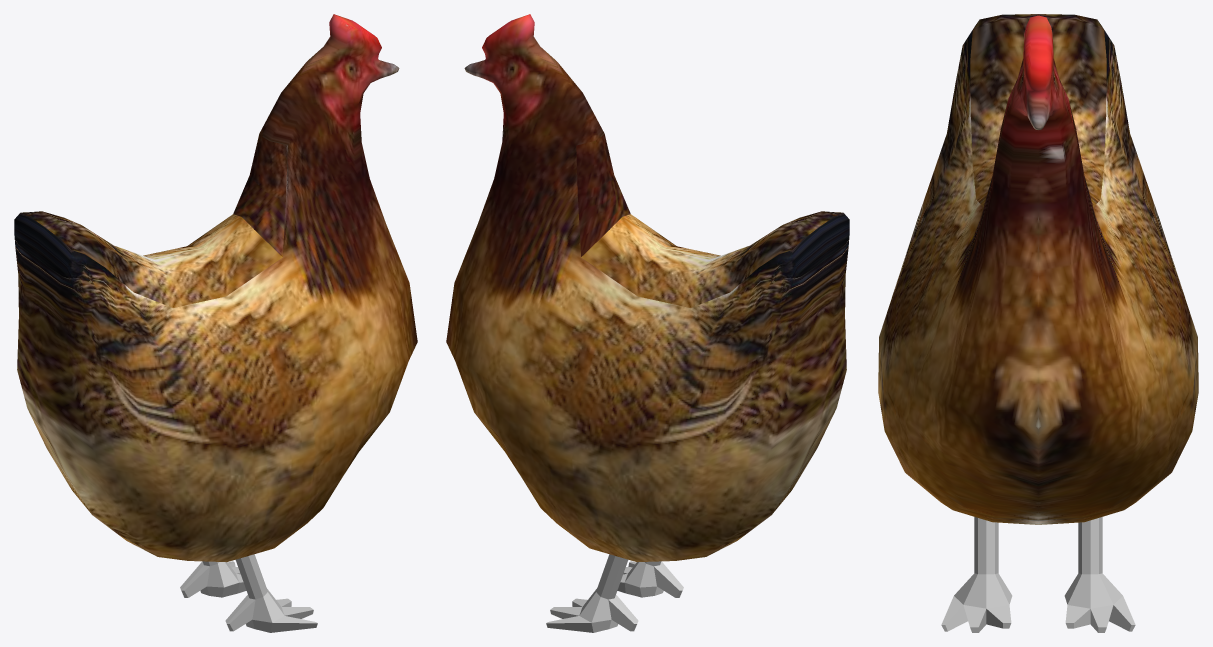
Rendered from Cikin 2.fbx.
The picture shows the model from 3 angles, left to right: view 1: azimuth 30°, elevation 25°; view 2: azimuth 150°, elevation 25°; view 3: azimuth 270°, elevation 25°; orthographic projection. The views are drawn at different scales.
Parts seen in each view (by area): view 1: Cikin 2; view 2: Cikin 2; view 3: Cikin 2.
Boxes of the visible parts, x1,y1,x2,y2 form: Cikin 2: (14, 14, 417, 632); Cikin 2: (446, 14, 849, 632); Cikin 2: (878, 14, 1198, 632).
Bounding box in the file's own units: 0.4746 × 0.7026 × 0.3135.
